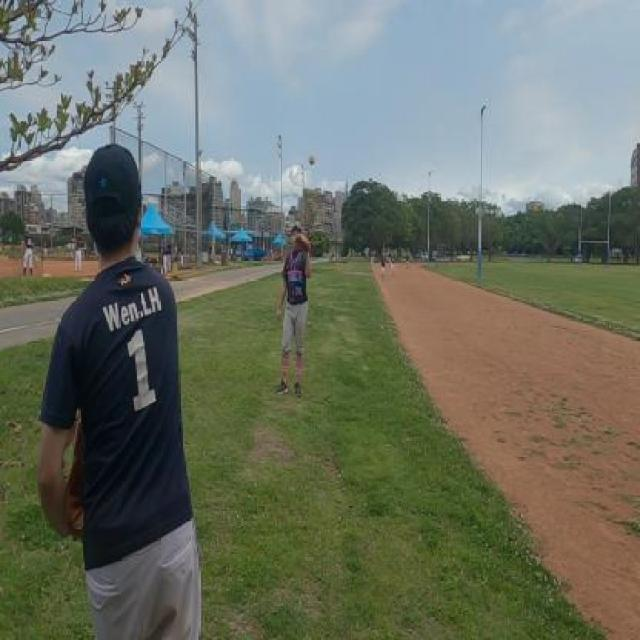baseball: (308, 154, 314, 166)
